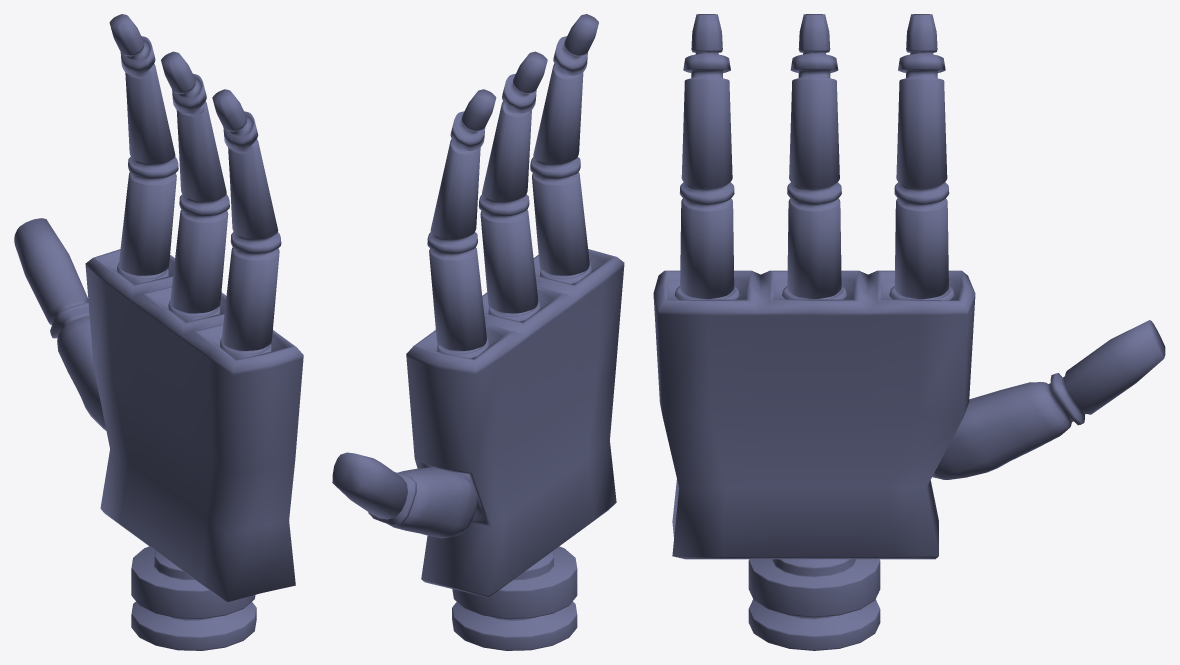
File: mechanical_hand_v1.glb
3 renders of one model, left to right at view 1: azimuth 30°, elevation 25°; view 2: azimuth 150°, elevation 25°; view 3: azimuth 270°, elevation 25°, orthographic. The views are drawn at different scales.
Visible parts, largest first — view 1: Cube; view 2: Cube; view 3: Cube.
Part boxes in pixels (x1=…): Cube: x1=14, y1=14, x2=303, y2=650; Cube: x1=332, y1=14, x2=624, y2=650; Cube: x1=653, y1=14, x2=1165, y2=650.
Bounding box in the file's own units: 1.01 × 5.08 × 3.92.
